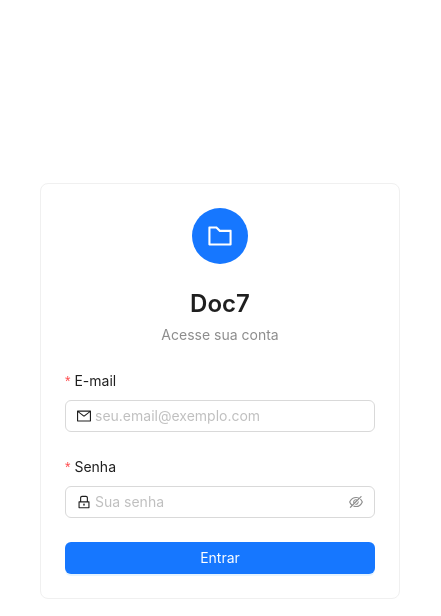
it: Login (US 1.2) › conta desativada mostra aviso específico, distinto da mensagem genérica (cenário 3)
This screenshot has width=441, height=616.
Expected: the heading "Doc7" is shown, left=190, top=289, right=250, bottom=318
Type "ana@example.com" into the field labelled "E-mail" at (229, 416), box left=95, top=405, right=363, bottom=427
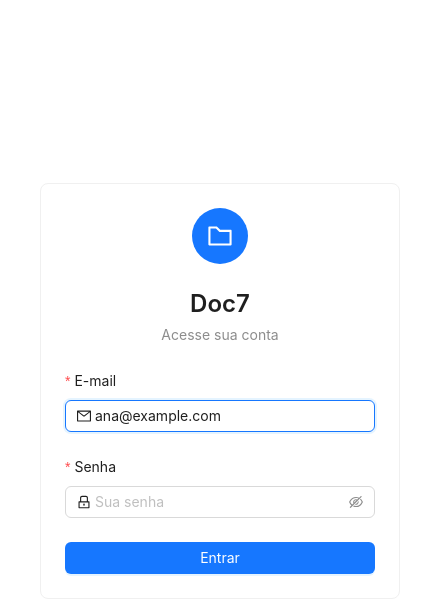
Type "senha-correta" into the password field labelled "Senha" at (220, 502), box left=95, top=491, right=345, bottom=513
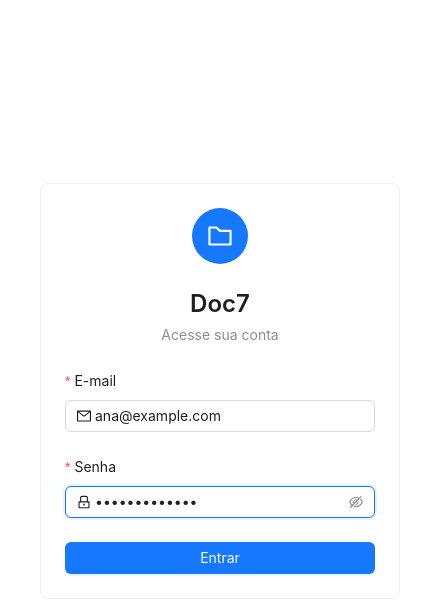
Click the button "Entrar" at (220, 558), box left=65, top=542, right=375, bottom=574
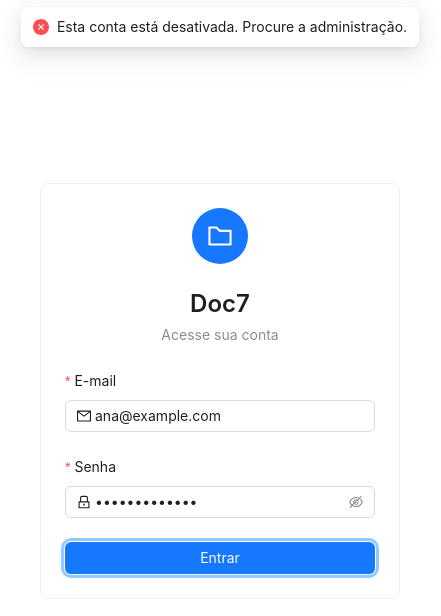
Result: the text "Esta conta está desativada. Procure a administração." is shown at left=57, top=16, right=407, bottom=38
